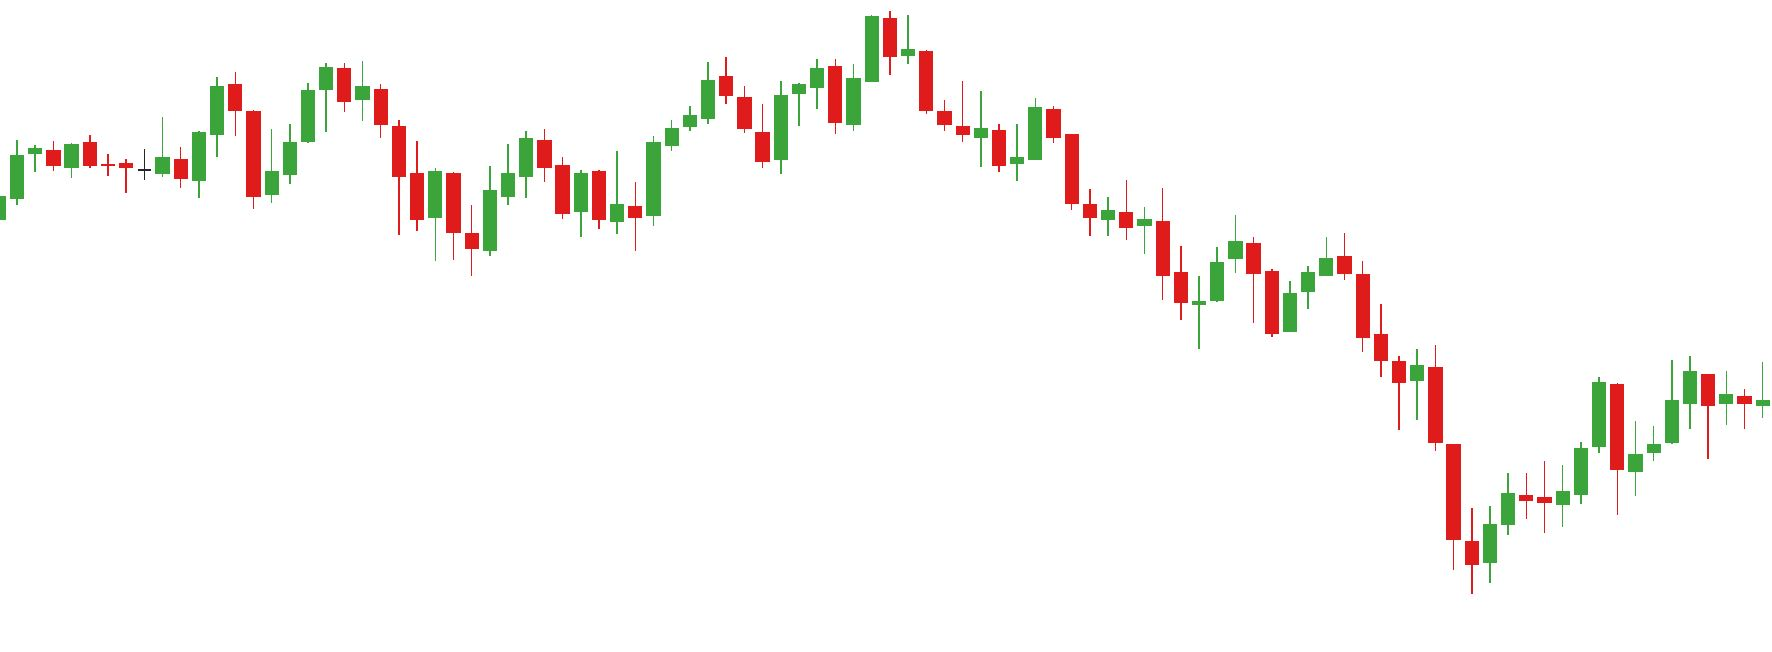buy: (243, 122, 444, 273)
sell: (701, 10, 897, 116)
